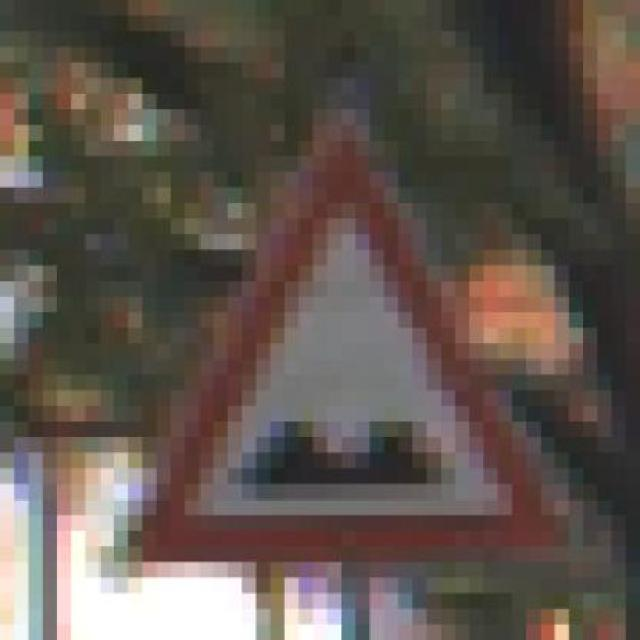Uneven Road: (99, 109, 584, 562)
